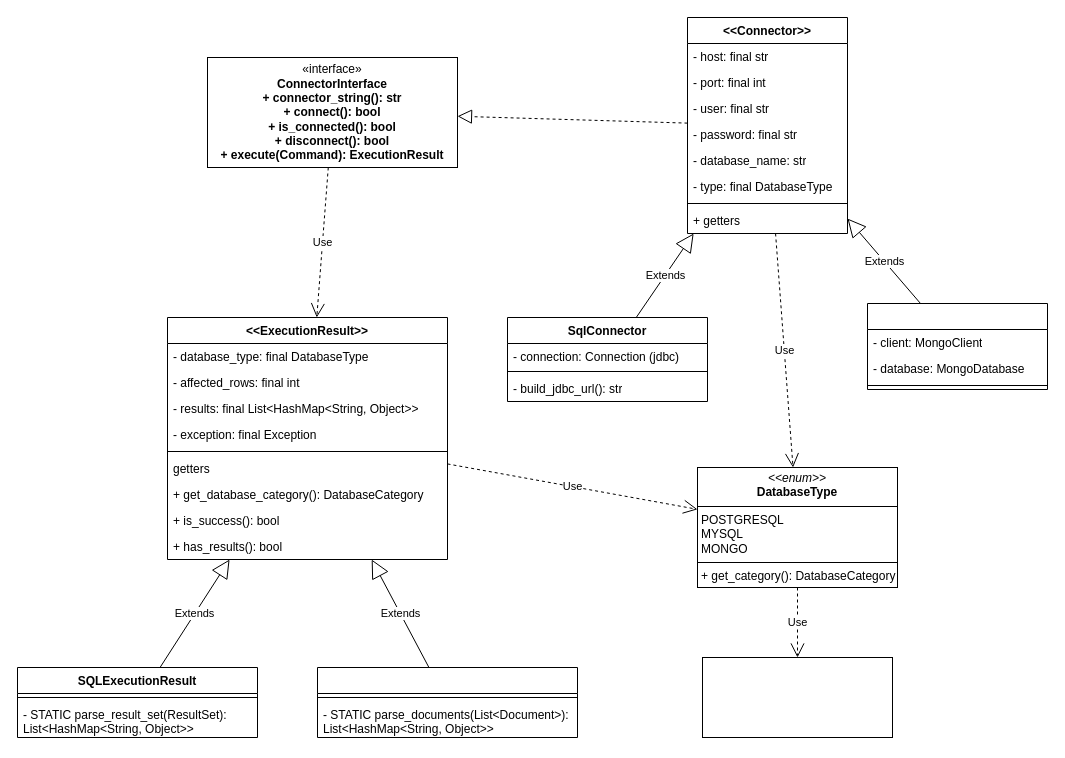
Image size: 1065x758. Some labels were removed from this diagram. The shapes that lost their labels are listed below. From the top down, each one's box as (x1, y1, x2, y2) in pixels, then its label:
(866, 302, 1048, 390): MongoConnector
(316, 666, 578, 738): MongoExecutionResult
(702, 656, 892, 738): <<enum>> DatabaseCategory SQL MONGO
